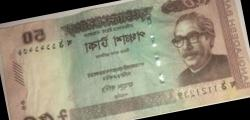50 taka: (9, 2, 233, 120)
